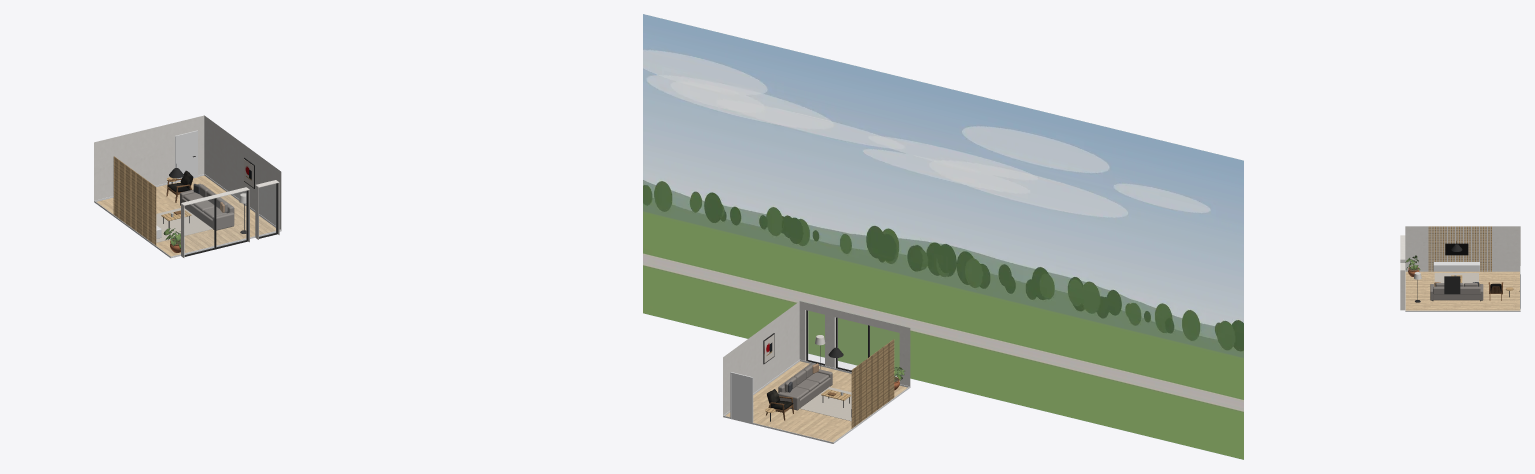
The model's file is living.glb.
3 renders of one model, left to right at view 1: azimuth 30°, elevation 25°; view 2: azimuth 150°, elevation 25°; view 3: azimuth 270°, elevation 25°, orthographic. The views are drawn at different scales.
Visible parts, largest first — view 1: living_baked; view 2: Mesh_19, living_baked; view 3: living_baked.
Part boxes in pixels (x1,y1,x2,y2): living_baked: (94, 115, 281, 258); Mesh_19: (643, 14, 1243, 459); living_baked: (723, 301, 910, 443); living_baked: (1400, 226, 1520, 311).
Bounding box in the file's own units: 29.4 × 14 × 14.
18 materials, 18 textured.
